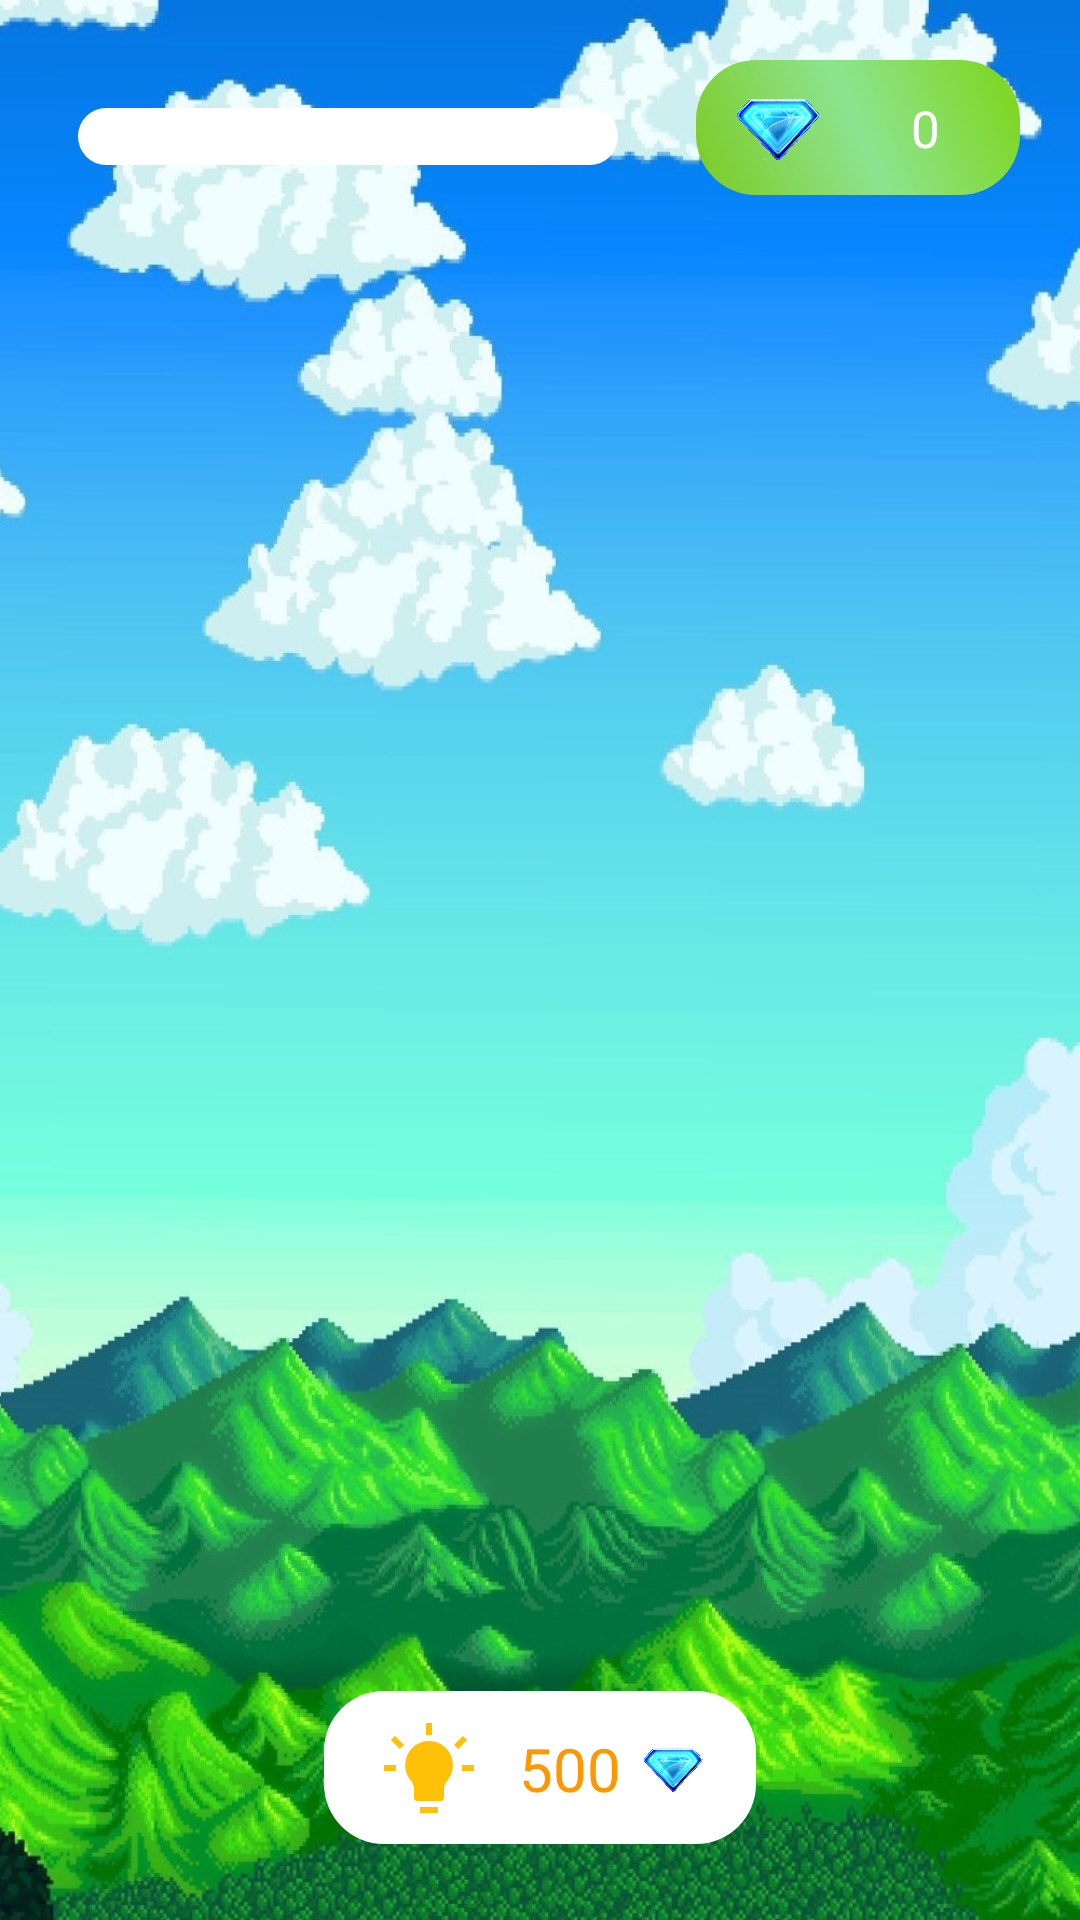

Where icons sit on this 1080*1920 app screen, as (x1, y1, x2, y2):
bulb on: (384, 1723, 474, 1813)
